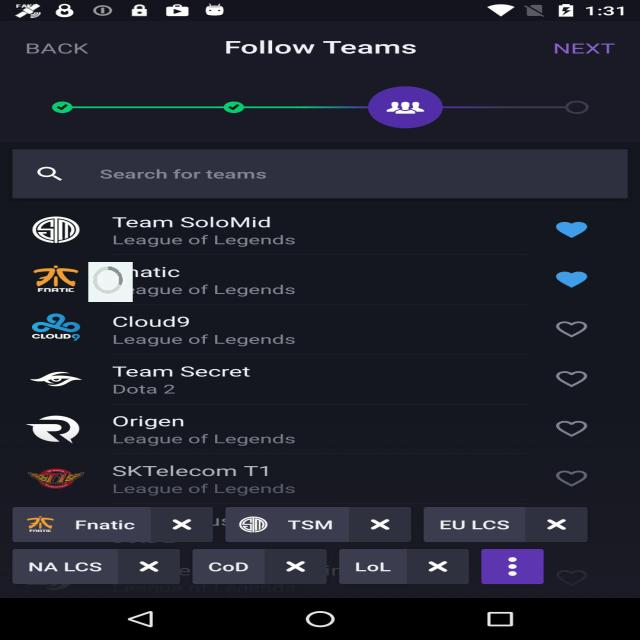misdirection: (88, 262, 133, 302)
